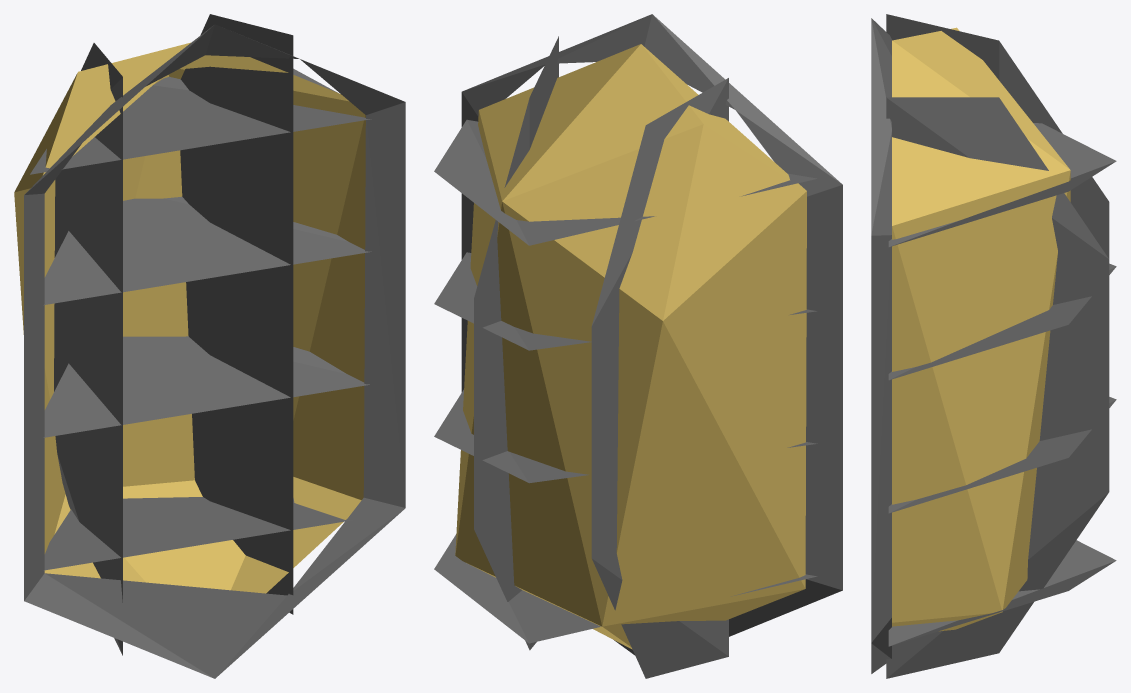
File: bw-wall-lamp.lod2.glb
3 views of the same model, side by side, from view 1: azimuth 30°, elevation 25°; view 2: azimuth 150°, elevation 25°; view 3: azimuth 270°, elevation 25° (orthographic).
Visible parts, largest first — view 1: WallLightMetalCage_Metal_0; view 2: WallLightMetalCage_Metal_0; view 3: WallLightMetalCage_Metal_0.
Part boxes in pixels (<box>): WallLightMetalCage_Metal_0: <box>14,14,405,678</box>; WallLightMetalCage_Metal_0: <box>434,14,842,678</box>; WallLightMetalCage_Metal_0: <box>871,14,1116,678</box>.
Size of the model in its own units: 0.35 by 0.5737 by 0.1944.
